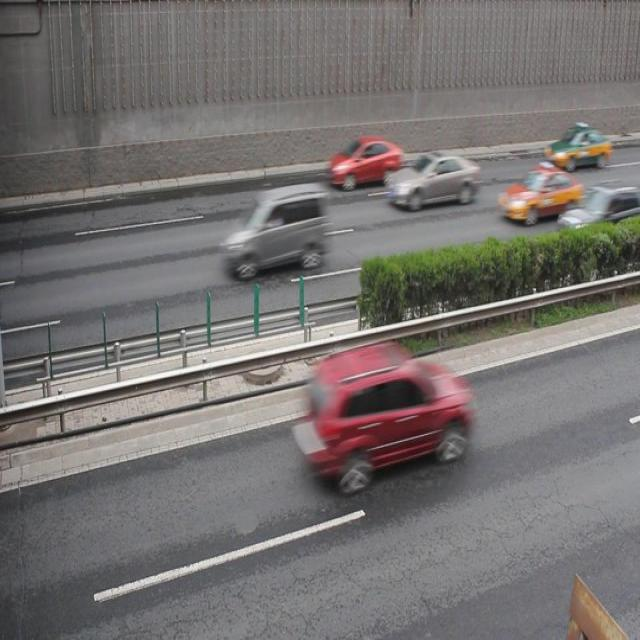car: (300, 340, 472, 492), (554, 182, 640, 248), (386, 149, 479, 210), (498, 162, 581, 223), (327, 135, 402, 189), (541, 122, 610, 172)
truck: (221, 183, 328, 279)
